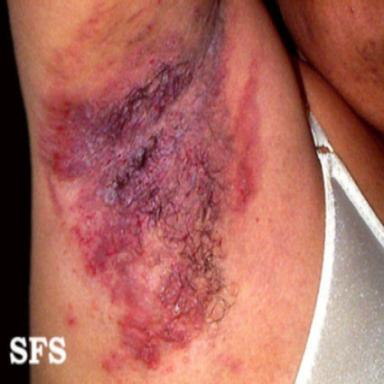Hailey-Hailey-Disease: (43, 4, 229, 367)
